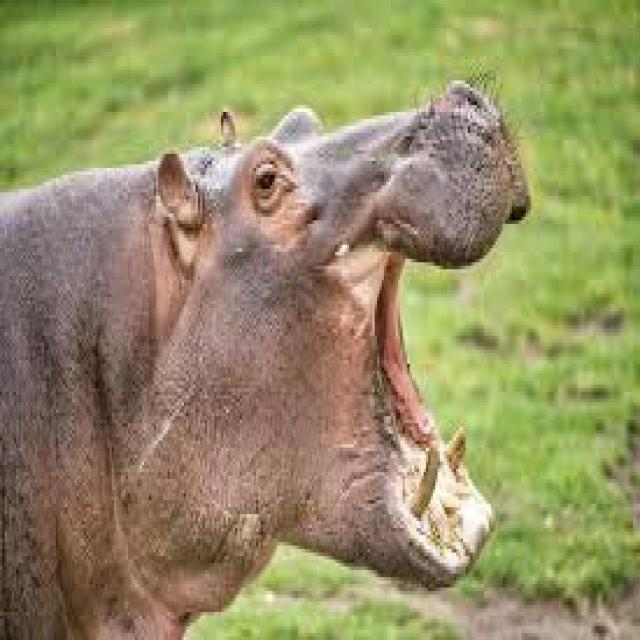Hippopotamus: (0, 78, 533, 640)
